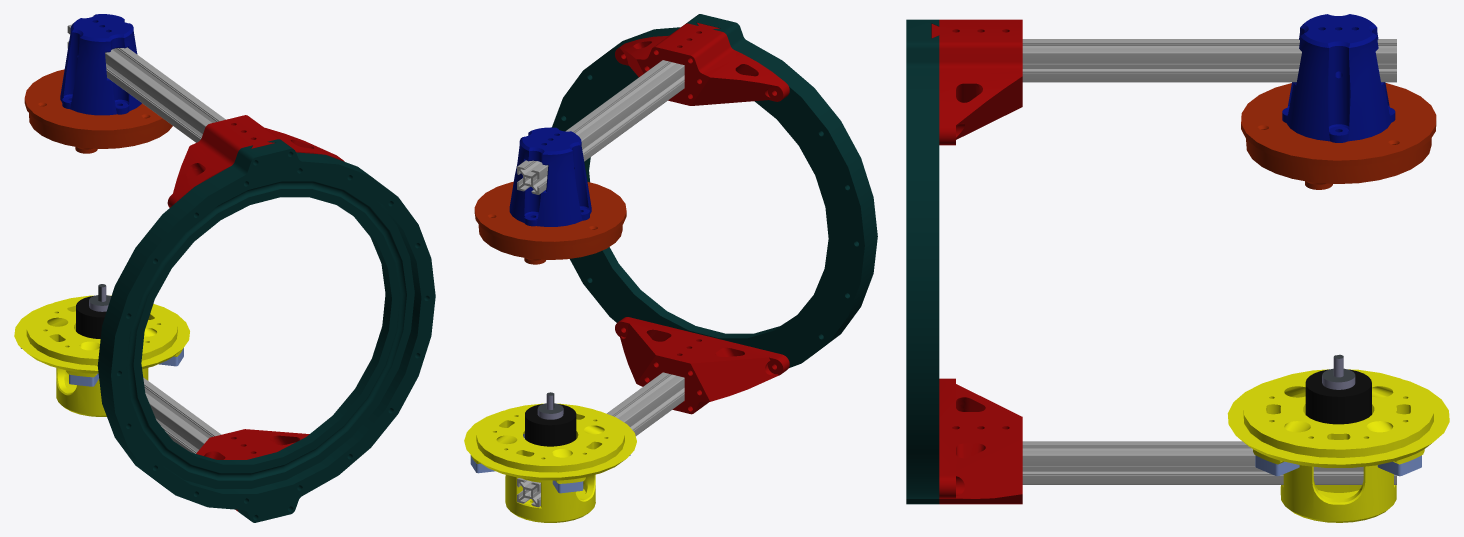
Rendered from turntable_front_right_visual.obj.
3 renders of one model, left to right at view 1: azimuth 30°, elevation 25°; view 2: azimuth 150°, elevation 25°; view 3: azimuth 270°, elevation 25°, orthographic. The views are drawn at different scales.
Visible parts, largest first — view 1: turntable_F_R_visual.001; view 2: turntable_F_R_visual.001; view 3: turntable_F_R_visual.001.
Boxes of the visible parts, <box> form: turntable_F_R_visual.001: <box>14,14,435,522</box>; turntable_F_R_visual.001: <box>464,14,877,522</box>; turntable_F_R_visual.001: <box>906,14,1449,522</box>.
Bounding box in the file's own units: 0.285 × 0.3124 × 0.3267.
